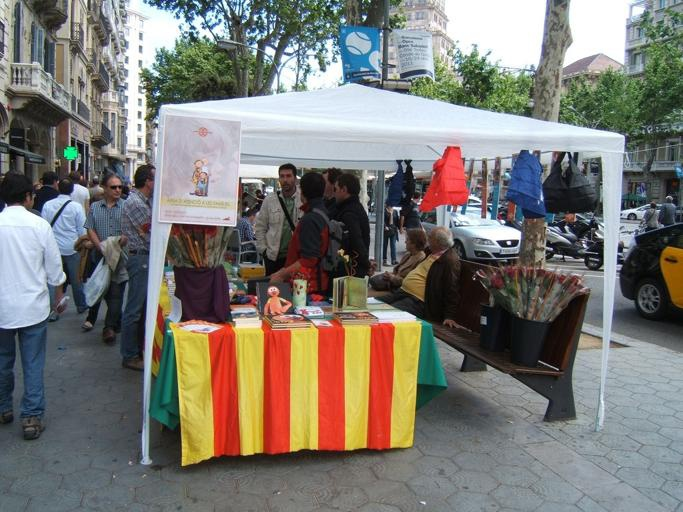non-vehicle: (545, 210, 603, 270), (583, 223, 649, 270)
